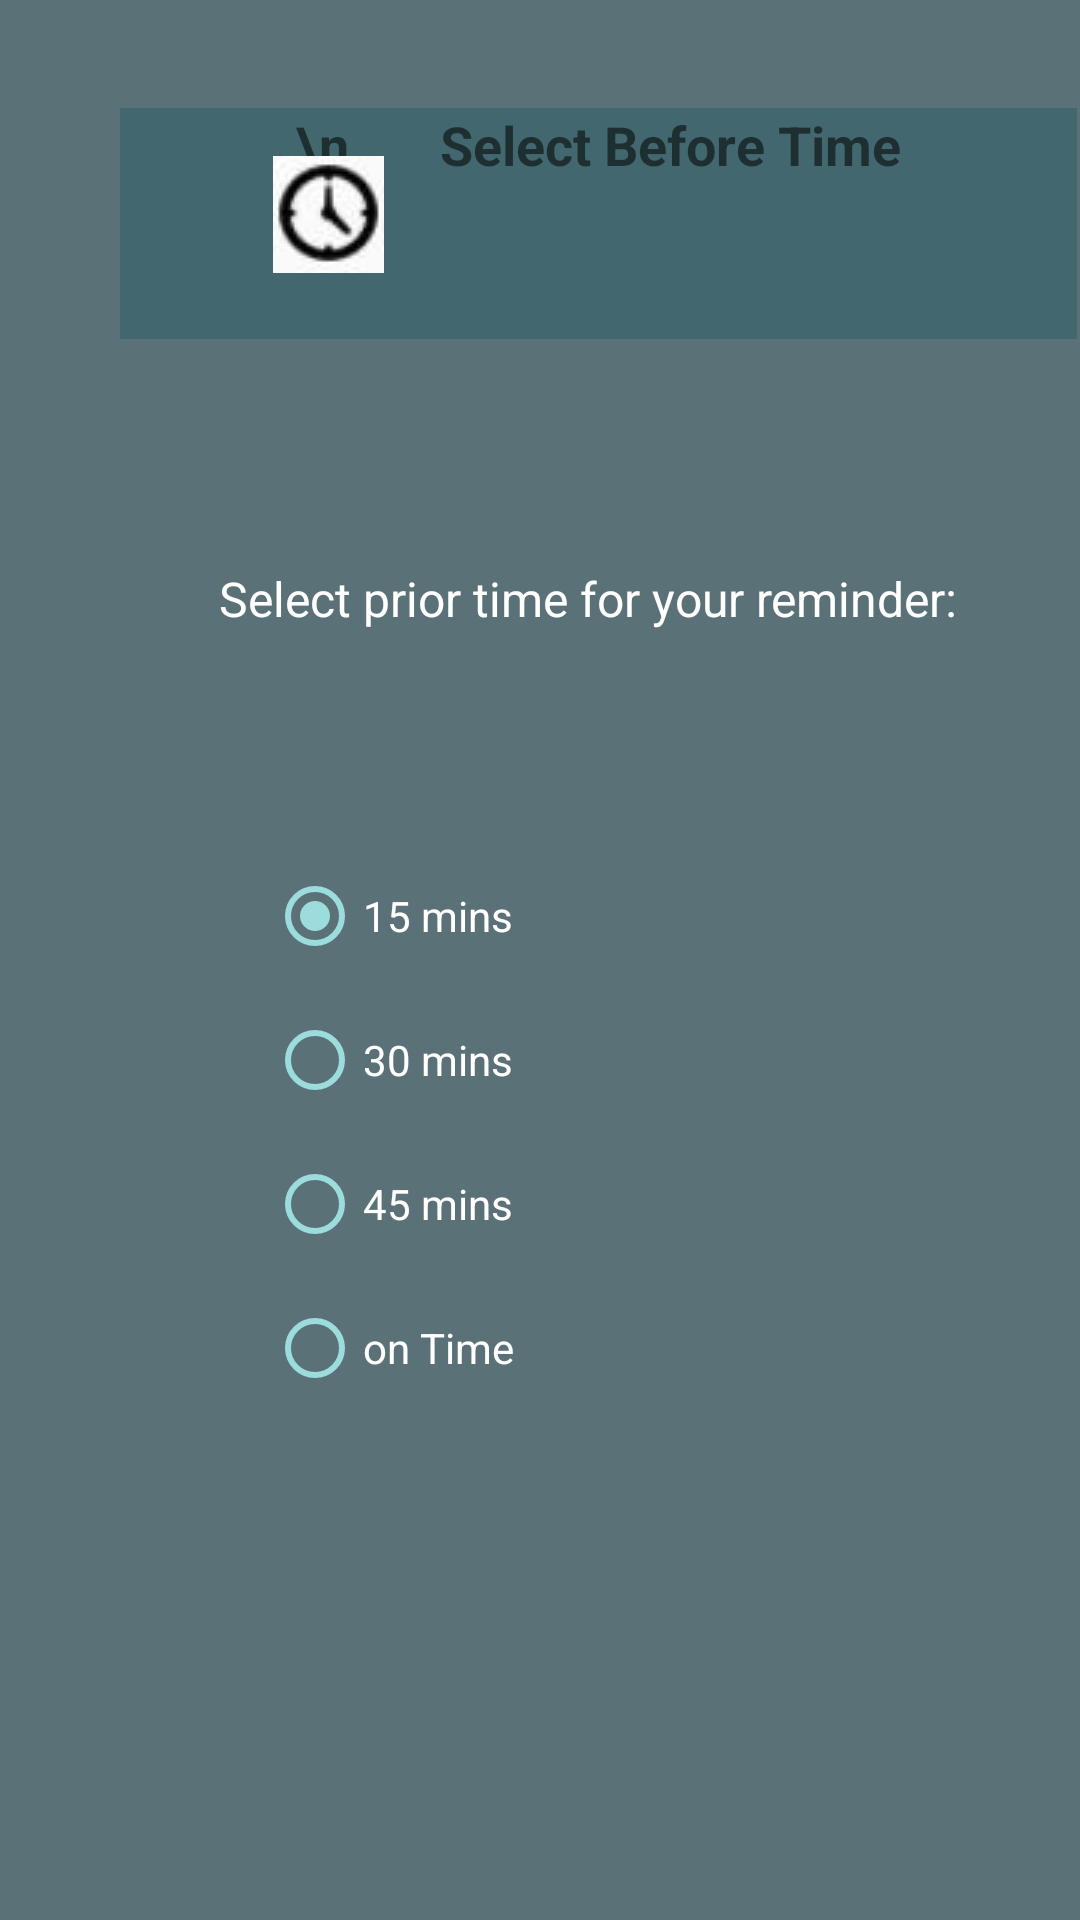

Screen size 1080w x 1920h. Icon name, then its center in pixels as point (x, y):
clock: point (328, 214)
